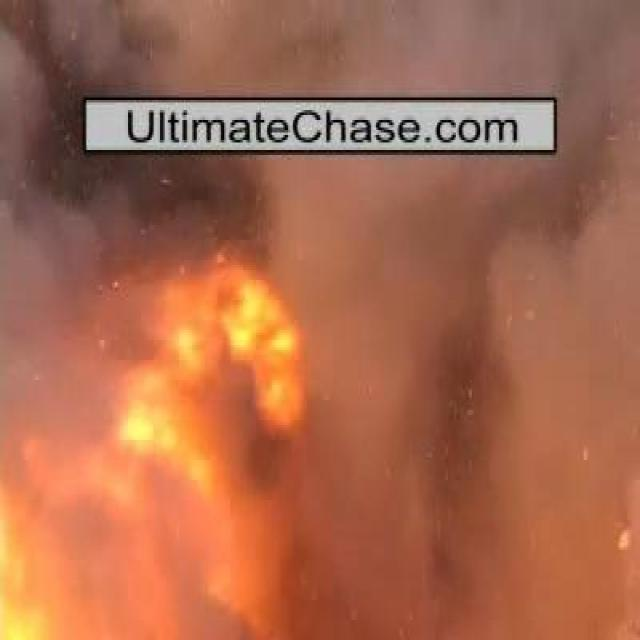Smoke: (42, 158, 576, 582)
